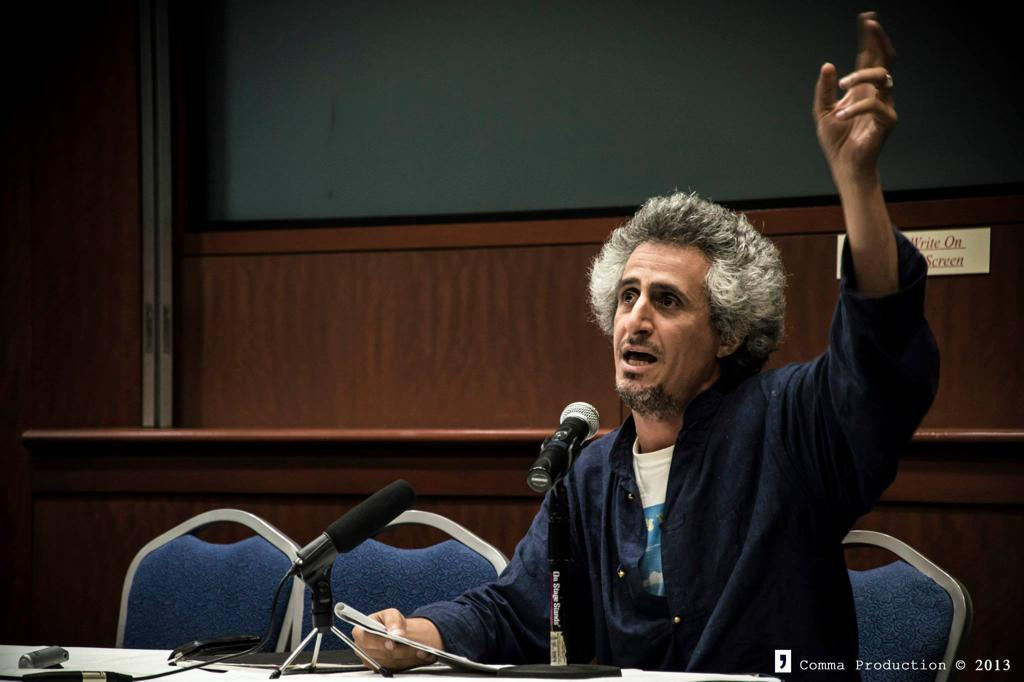face: (611, 241, 711, 395)
